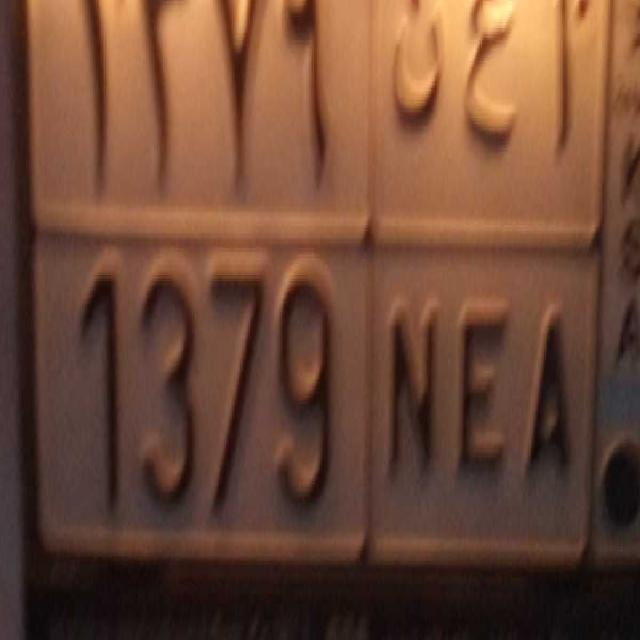license_plate: (48, 225, 595, 578)
